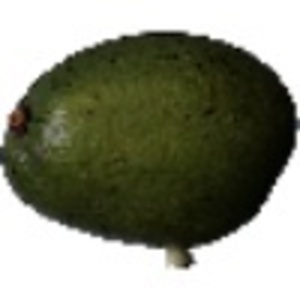abacate: (1, 30, 298, 250)
